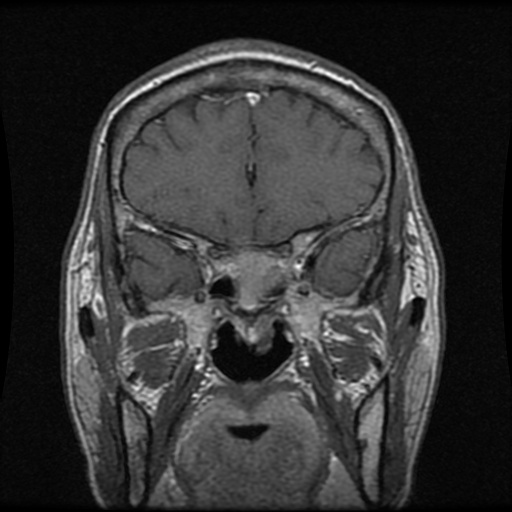pituitary: (228, 252, 285, 303)
